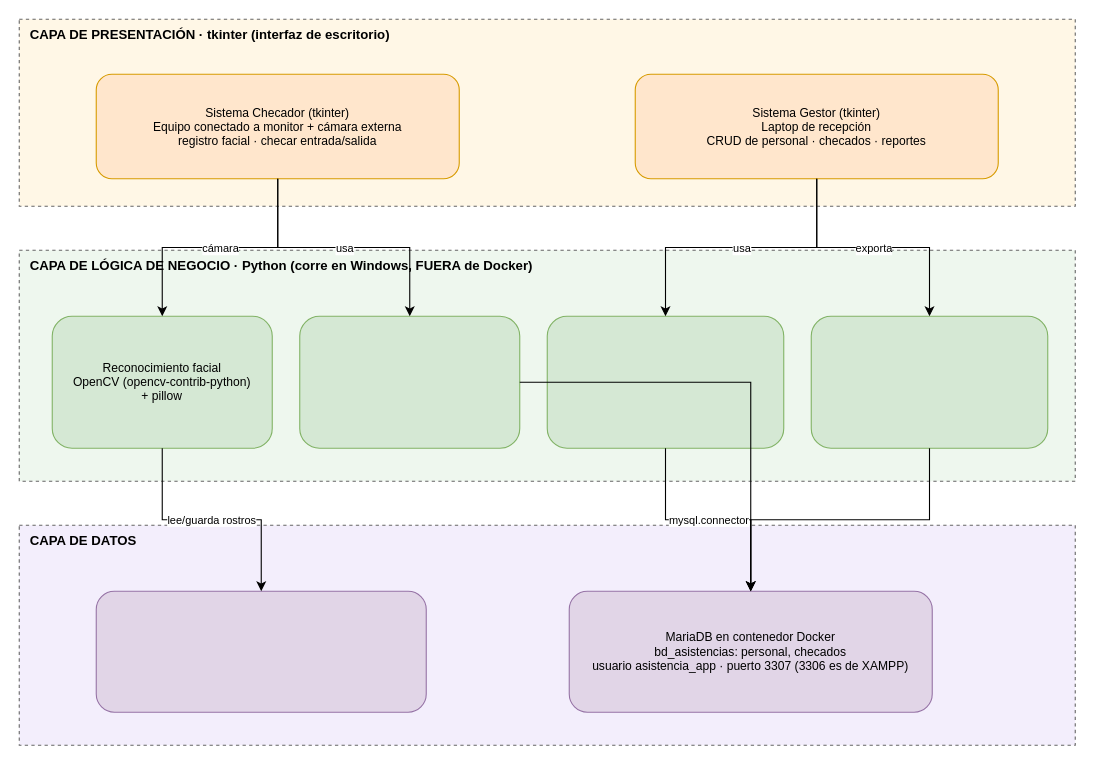
Image size: 1095x765. Some labels were removed from this diagram. Each missing label, with the centre of its shape:
Carpeta de rostros (fotos en disco de la laptop, NO van en la base de datos): (x=260, y=651)
Clase Checador registrar_entrada() registrar_salida() tiempo_instancia(): (x=409, y=381)
Clase Empleados agregar() · consultar() modificar() · eliminar(): (x=665, y=381)
Exportación de reportes Excel con openpyxl PDF: librería por decidir: (x=929, y=381)
